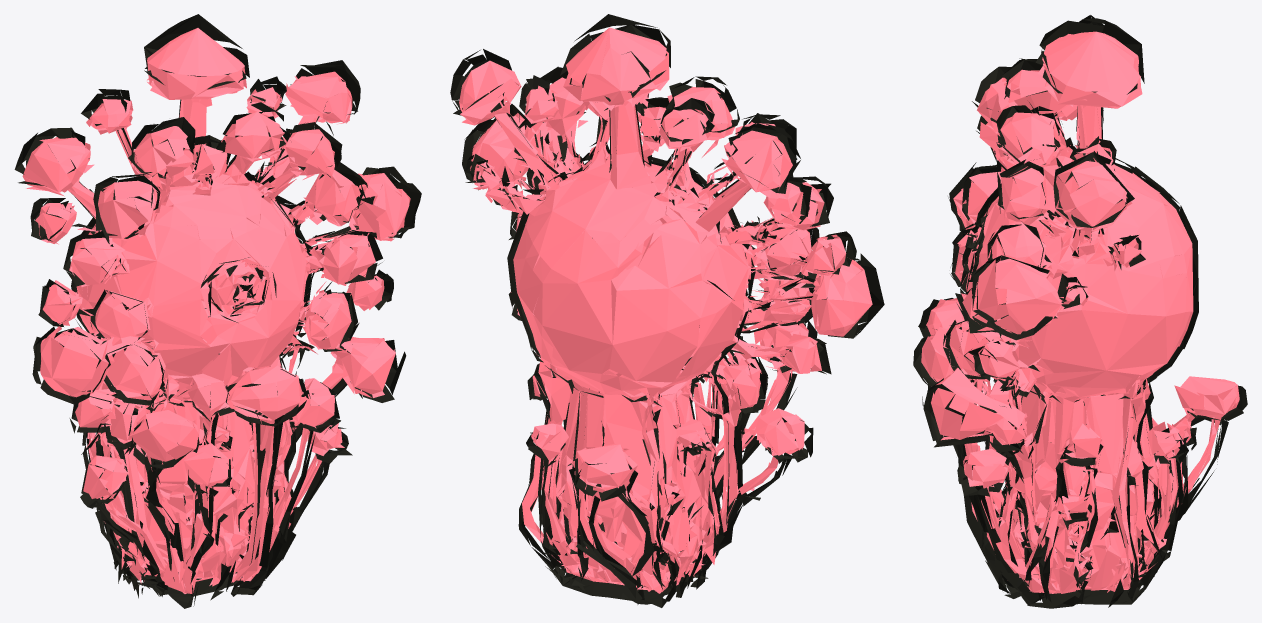
The model's file is df_v2_glowing_mushroom_ring_hero_d_a.glb.
The picture shows the model from 3 angles, left to right: view 1: azimuth 30°, elevation 25°; view 2: azimuth 150°, elevation 25°; view 3: azimuth 270°, elevation 25°; orthographic projection. The views are drawn at different scales.
Parts seen in each view (by area): view 1: glowing_mushroom_ring_hero_d_mesh_01, glowing_mushroom_ring_hero_d_mesh_01_ink_outline; view 2: glowing_mushroom_ring_hero_d_mesh_01, glowing_mushroom_ring_hero_d_mesh_01_ink_outline; view 3: glowing_mushroom_ring_hero_d_mesh_01, glowing_mushroom_ring_hero_d_mesh_01_ink_outline.
Part boxes in pixels (bbox=[...]): glowing_mushroom_ring_hero_d_mesh_01: bbox=[22, 28, 410, 593]; glowing_mushroom_ring_hero_d_mesh_01_ink_outline: bbox=[14, 14, 421, 608]; glowing_mushroom_ring_hero_d_mesh_01: bbox=[459, 27, 872, 593]; glowing_mushroom_ring_hero_d_mesh_01_ink_outline: bbox=[450, 14, 884, 607]; glowing_mushroom_ring_hero_d_mesh_01: bbox=[921, 31, 1239, 593]; glowing_mushroom_ring_hero_d_mesh_01_ink_outline: bbox=[913, 15, 1247, 608].
Size of the model in its own units: 2.1 by 2.89 by 1.51.
